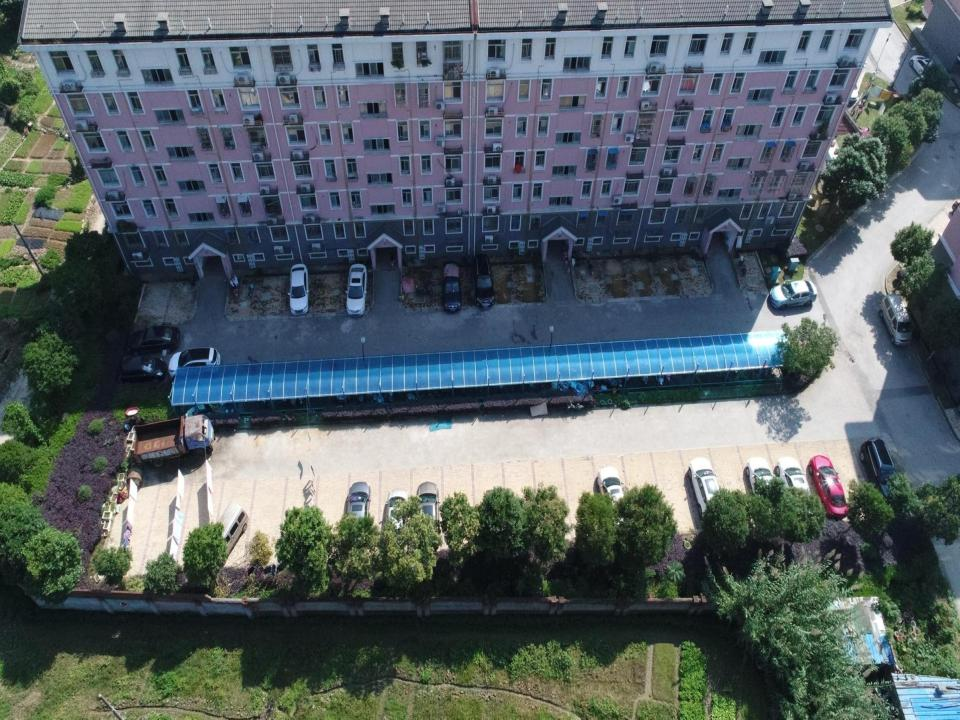car: (860, 436, 901, 501), (809, 455, 850, 520), (687, 456, 724, 518), (745, 456, 778, 520), (776, 456, 810, 518), (596, 466, 628, 527), (168, 347, 220, 381), (126, 325, 180, 357), (384, 489, 410, 549), (769, 280, 817, 310), (416, 482, 441, 539), (345, 482, 371, 536), (120, 355, 167, 383), (345, 263, 368, 317), (287, 263, 310, 316), (473, 253, 495, 308), (909, 54, 942, 86), (442, 261, 462, 311), (845, 71, 859, 105)
truck: (133, 414, 214, 468)
van: (206, 500, 249, 566), (879, 293, 913, 346)
